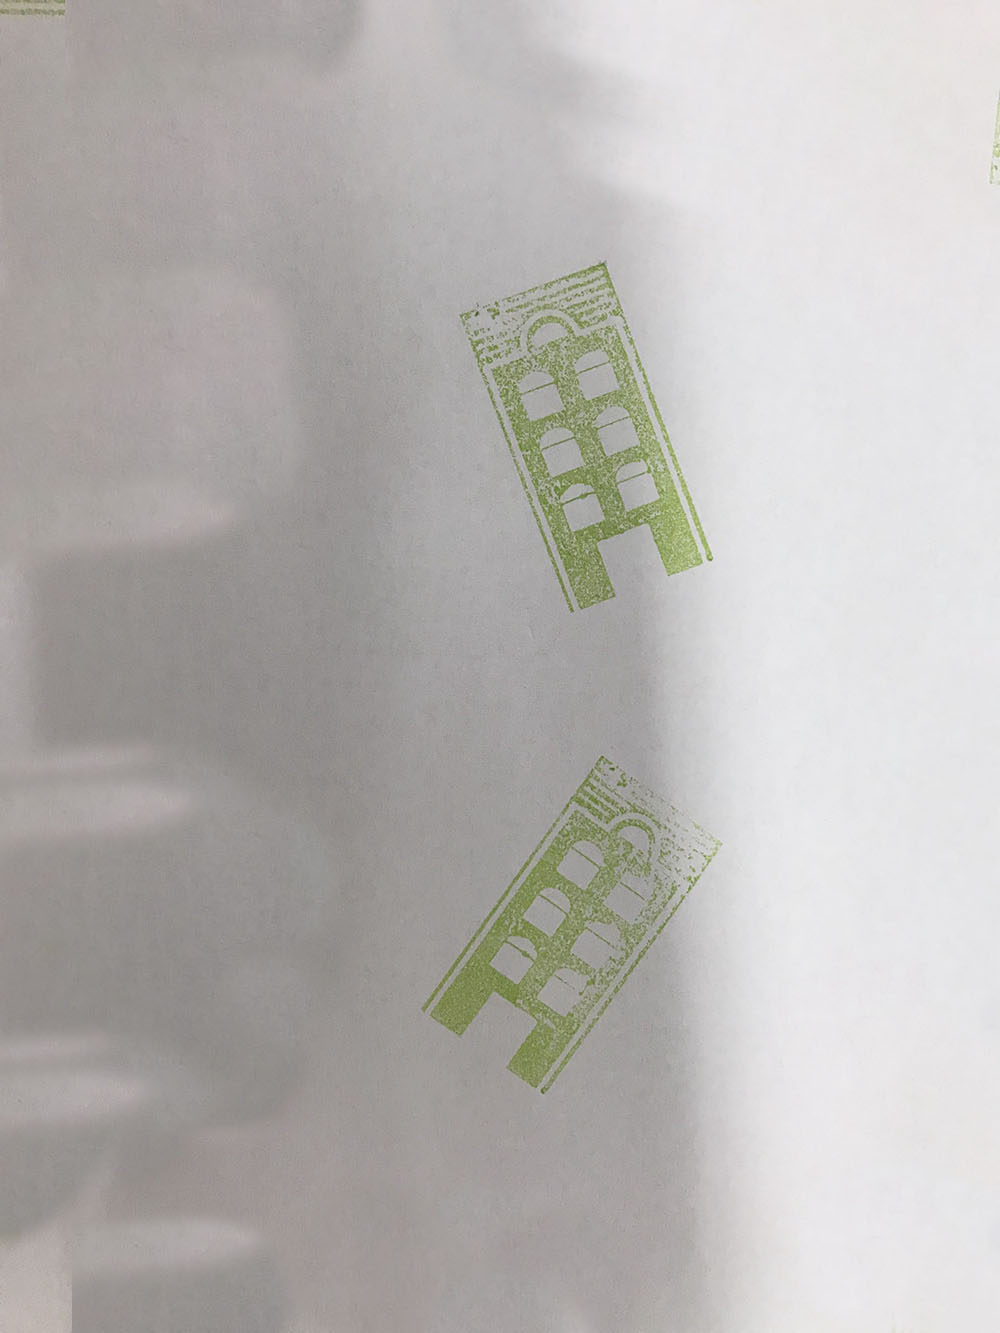build: (388, 697, 743, 1121), (434, 233, 754, 625)
